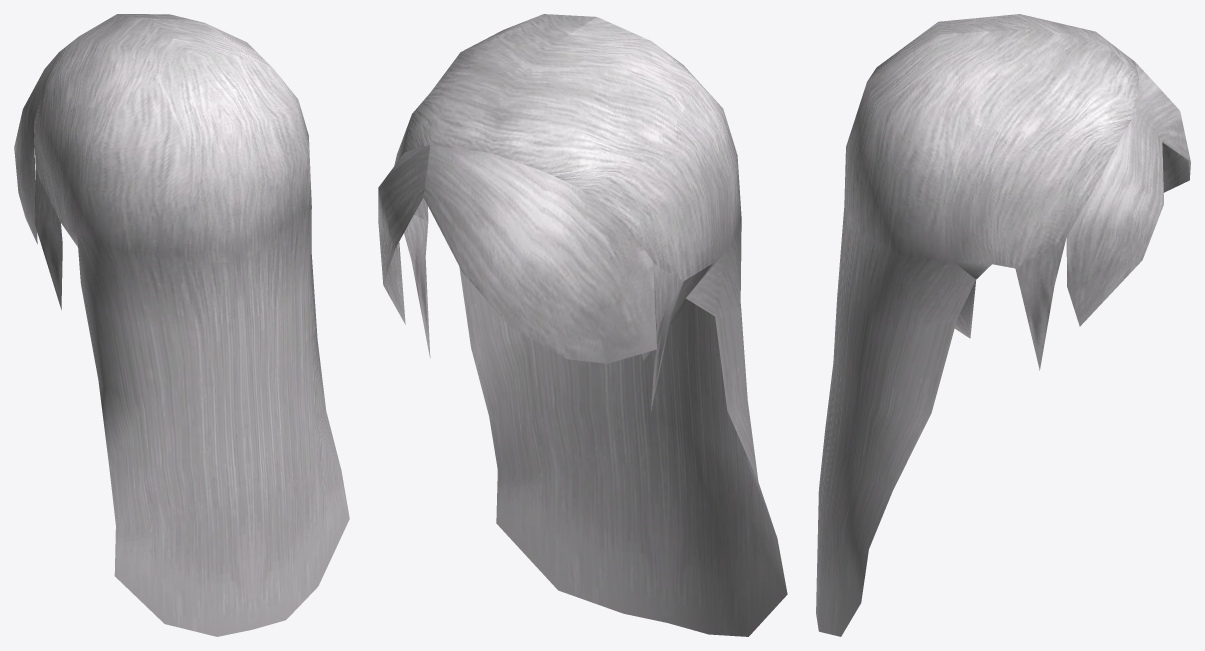
The model's file is Wizard female hair 09.glb.
3 renders of one model, left to right at view 1: azimuth 30°, elevation 25°; view 2: azimuth 150°, elevation 25°; view 3: azimuth 270°, elevation 25°, orthographic. The views are drawn at different scales.
Parts seen in each view (by area): view 1: Object26_0; view 2: Object26_0; view 3: Object26_0.
Part boxes in pixels (<box>): Object26_0: <box>14,14,349,636</box>; Object26_0: <box>378,14,787,636</box>; Object26_0: <box>816,14,1190,636</box>.
Size of the model in its own units: 0.1696 by 0.3689 by 0.2147.
1 material, 1 textured.
